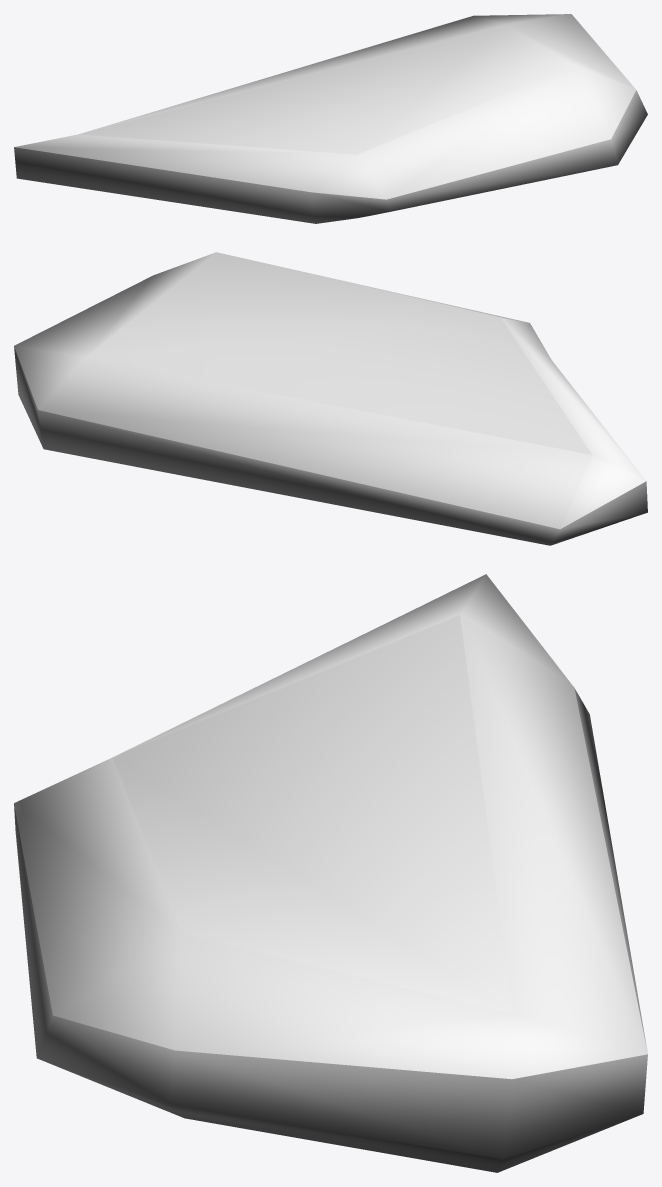
File: Rock 2.glb
The picture shows the model from 3 angles, top to bottom: view 1: azimuth 30°, elevation 25°; view 2: azimuth 150°, elevation 25°; view 3: azimuth 270°, elevation 25°; orthographic projection. The views are drawn at different scales.
Visible parts, largest first — view 1: Rock 2; view 2: Rock 2; view 3: Rock 2.
Boxes of the visible parts, box(x1,y1,x2,y2) form: Rock 2: box(14, 14, 647, 223); Rock 2: box(14, 252, 647, 545); Rock 2: box(14, 574, 647, 1172).
Bounding box in the file's own units: 2.33 × 0.4761 × 1.28.
1 material, 1 textured.
